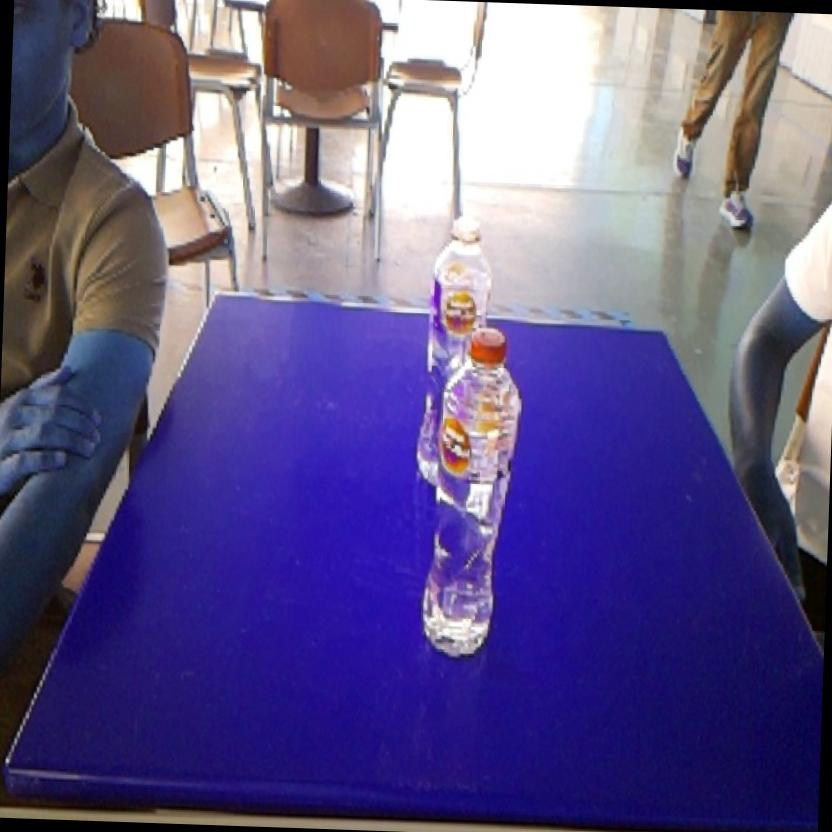good: (414, 320, 528, 668)
no_cap: (419, 206, 511, 324)
